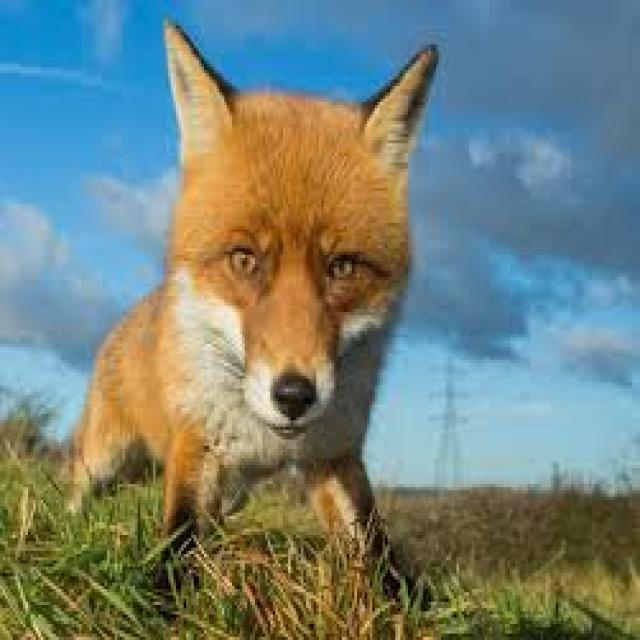fox: (56, 13, 439, 611)
